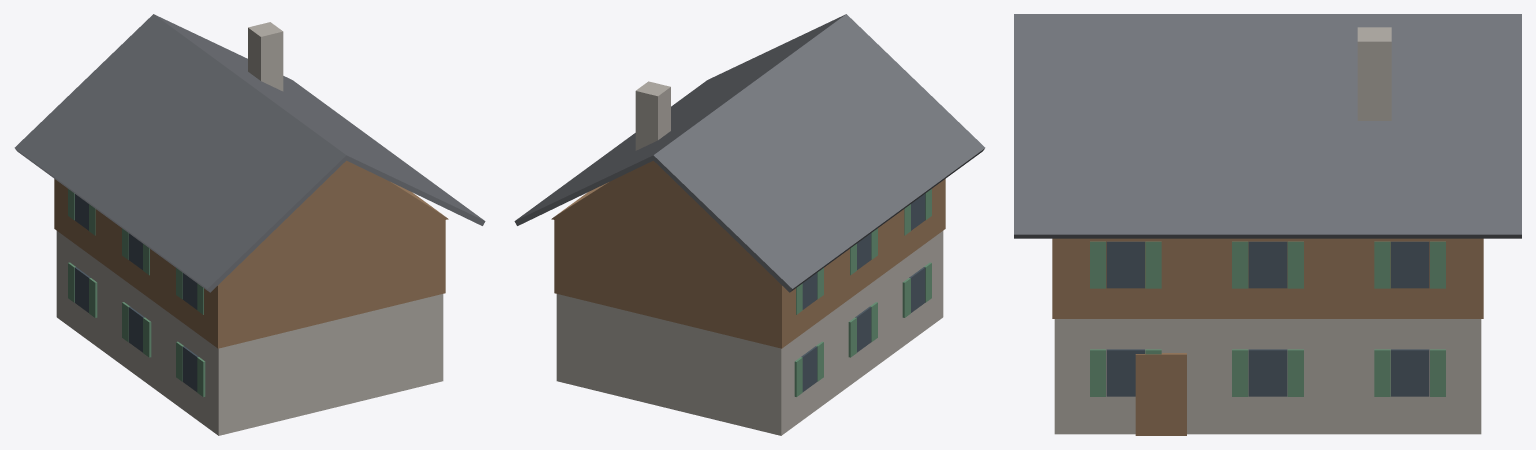
File: houseA.glb
3 renders of one model, left to right at view 1: azimuth 30°, elevation 25°; view 2: azimuth 150°, elevation 25°; view 3: azimuth 270°, elevation 25°, orthographic. The views are drawn at different scales.
Visible parts, largest first — view 1: ChaletRoof, ChaletBase, ChaletUpper, ChaletGable, Chimney, ChaletWin, ChaletWin.002, ChaletWin.001; view 2: ChaletRoof, ChaletBase, ChaletUpper, ChaletGable, Chimney, ChaletWin.002, ChaletWin, ChaletWin.001; view 3: ChaletRoof, ChaletBase, ChaletUpper, ChaletDoor, Chimney, ChaletWin.004, ChaletWin.010, ChaletWin.005, ChaletWin.009, ChaletWin.011, ChaletWin.003, ChaletSh.008 (+10 smaller).
Boxes of the visible parts, bbox=[...] form: ChaletRoof: bbox=[14, 14, 485, 292]; ChaletBase: bbox=[56, 231, 443, 435]; ChaletUpper: bbox=[54, 179, 445, 348]; ChaletGable: bbox=[232, 160, 448, 271]; Chimney: bbox=[248, 22, 283, 91]; ChaletWin: bbox=[182, 346, 198, 391]; ChaletWin.002: bbox=[74, 267, 90, 312]; ChaletWin.001: bbox=[128, 306, 144, 352]; ChaletRoof: bbox=[514, 14, 985, 292]; ChaletBase: bbox=[556, 231, 943, 435]; ChaletUpper: bbox=[554, 179, 945, 348]; ChaletGable: bbox=[551, 160, 767, 271]; Chimney: bbox=[635, 81, 670, 150]; ChaletWin.002: bbox=[801, 346, 817, 391]; ChaletWin: bbox=[909, 267, 925, 312]; ChaletWin.001: bbox=[855, 306, 871, 352]; ChaletRoof: bbox=[1014, 14, 1521, 238]; ChaletBase: bbox=[1054, 319, 1481, 434]; ChaletUpper: bbox=[1052, 238, 1483, 318]; ChaletDoor: bbox=[1135, 353, 1186, 435]; Chimney: bbox=[1357, 27, 1391, 120]; ChaletWin.004: bbox=[1248, 349, 1287, 396]; ChaletWin.010: bbox=[1248, 241, 1287, 288]; ChaletWin.005: bbox=[1391, 349, 1429, 396]; ChaletWin.009: bbox=[1106, 241, 1144, 288]; ChaletWin.011: bbox=[1391, 241, 1429, 288]; ChaletWin.003: bbox=[1106, 349, 1144, 396]; ChaletSh.008: bbox=[1232, 349, 1248, 396].
Bounding box in the file's own units: 9.9 × 9.4 × 11.9.
